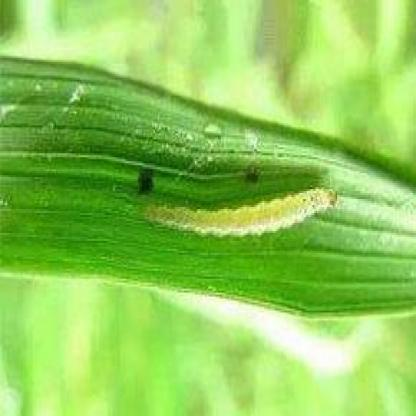leaf-folder: (140, 159, 388, 260)
